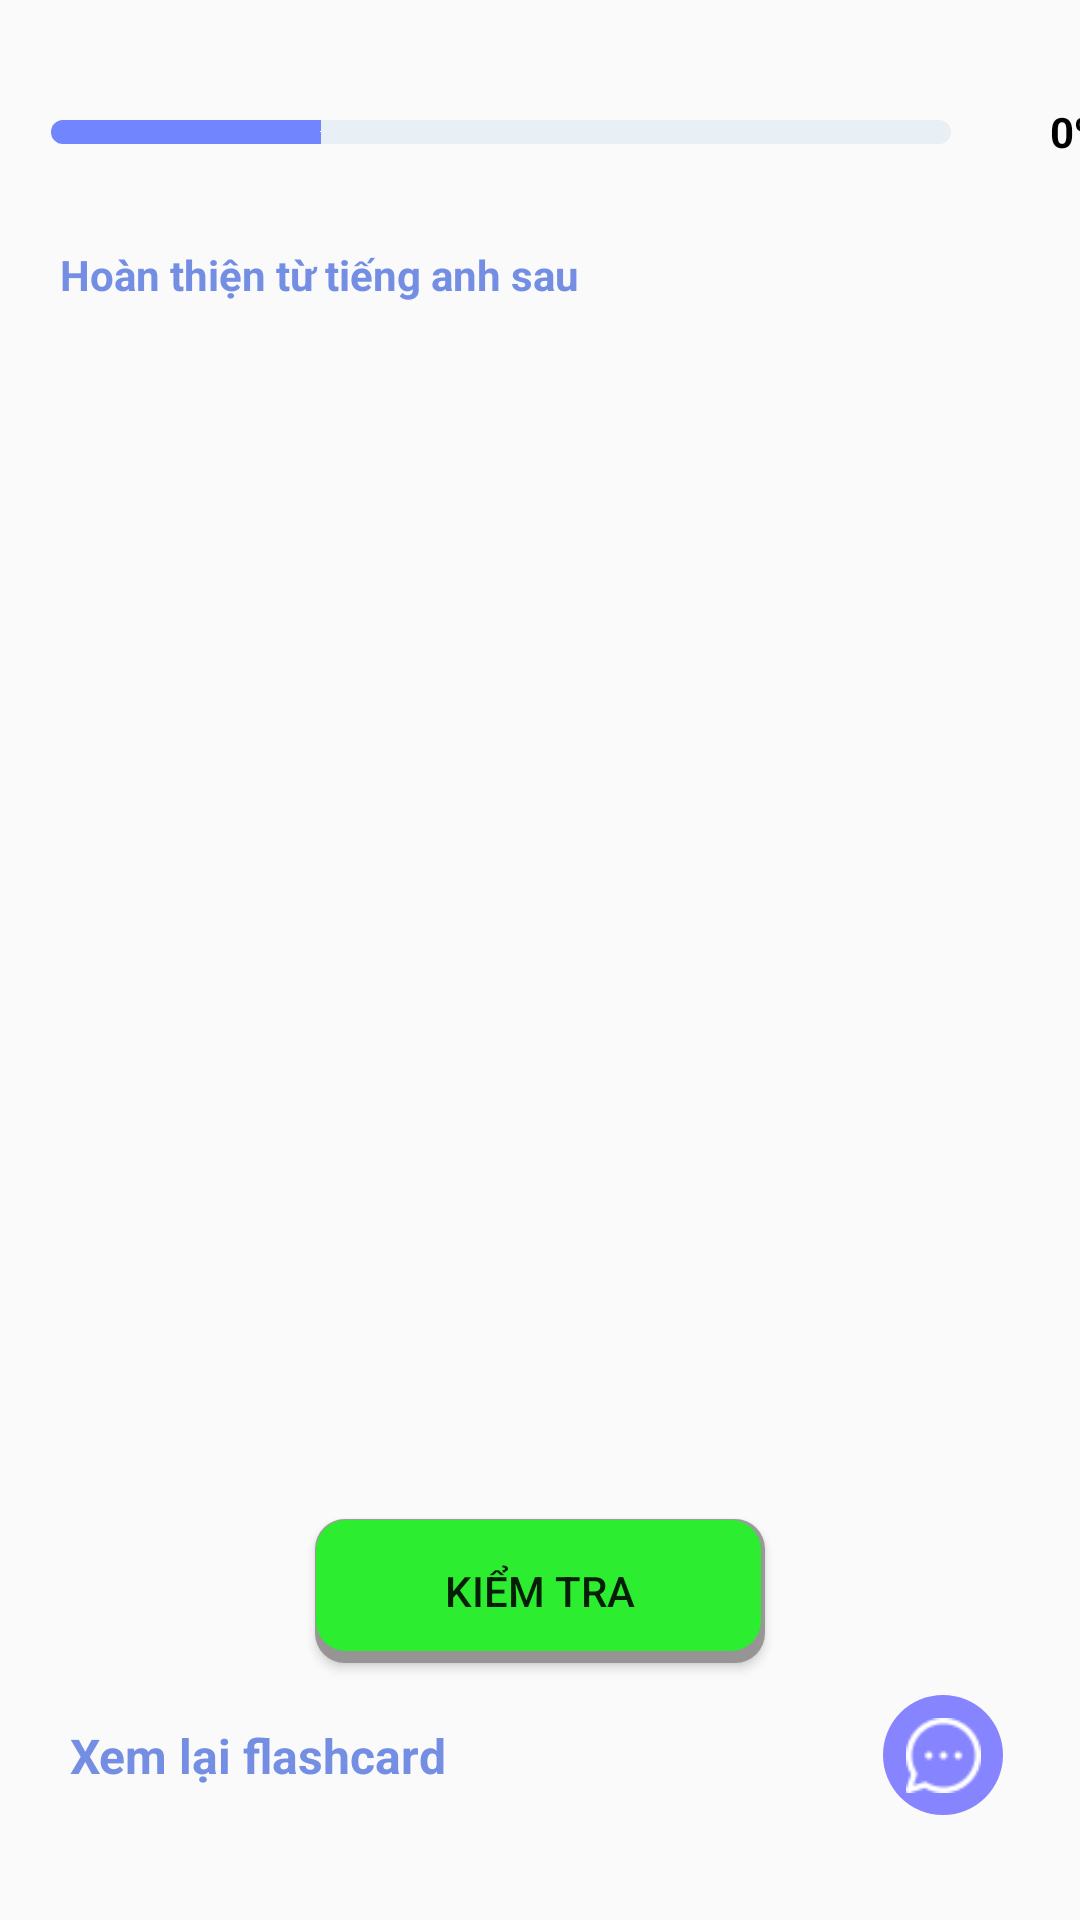

Screen size 1080*1920. Icon name, then its box in pixels as (x1, y1, x2, y2):
messenger: (906, 1718, 981, 1793)
